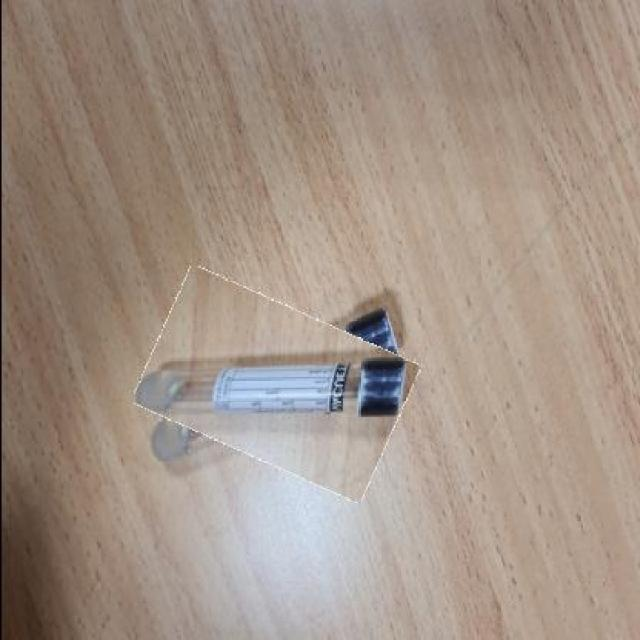Experimental-tube: (139, 287, 410, 481)
